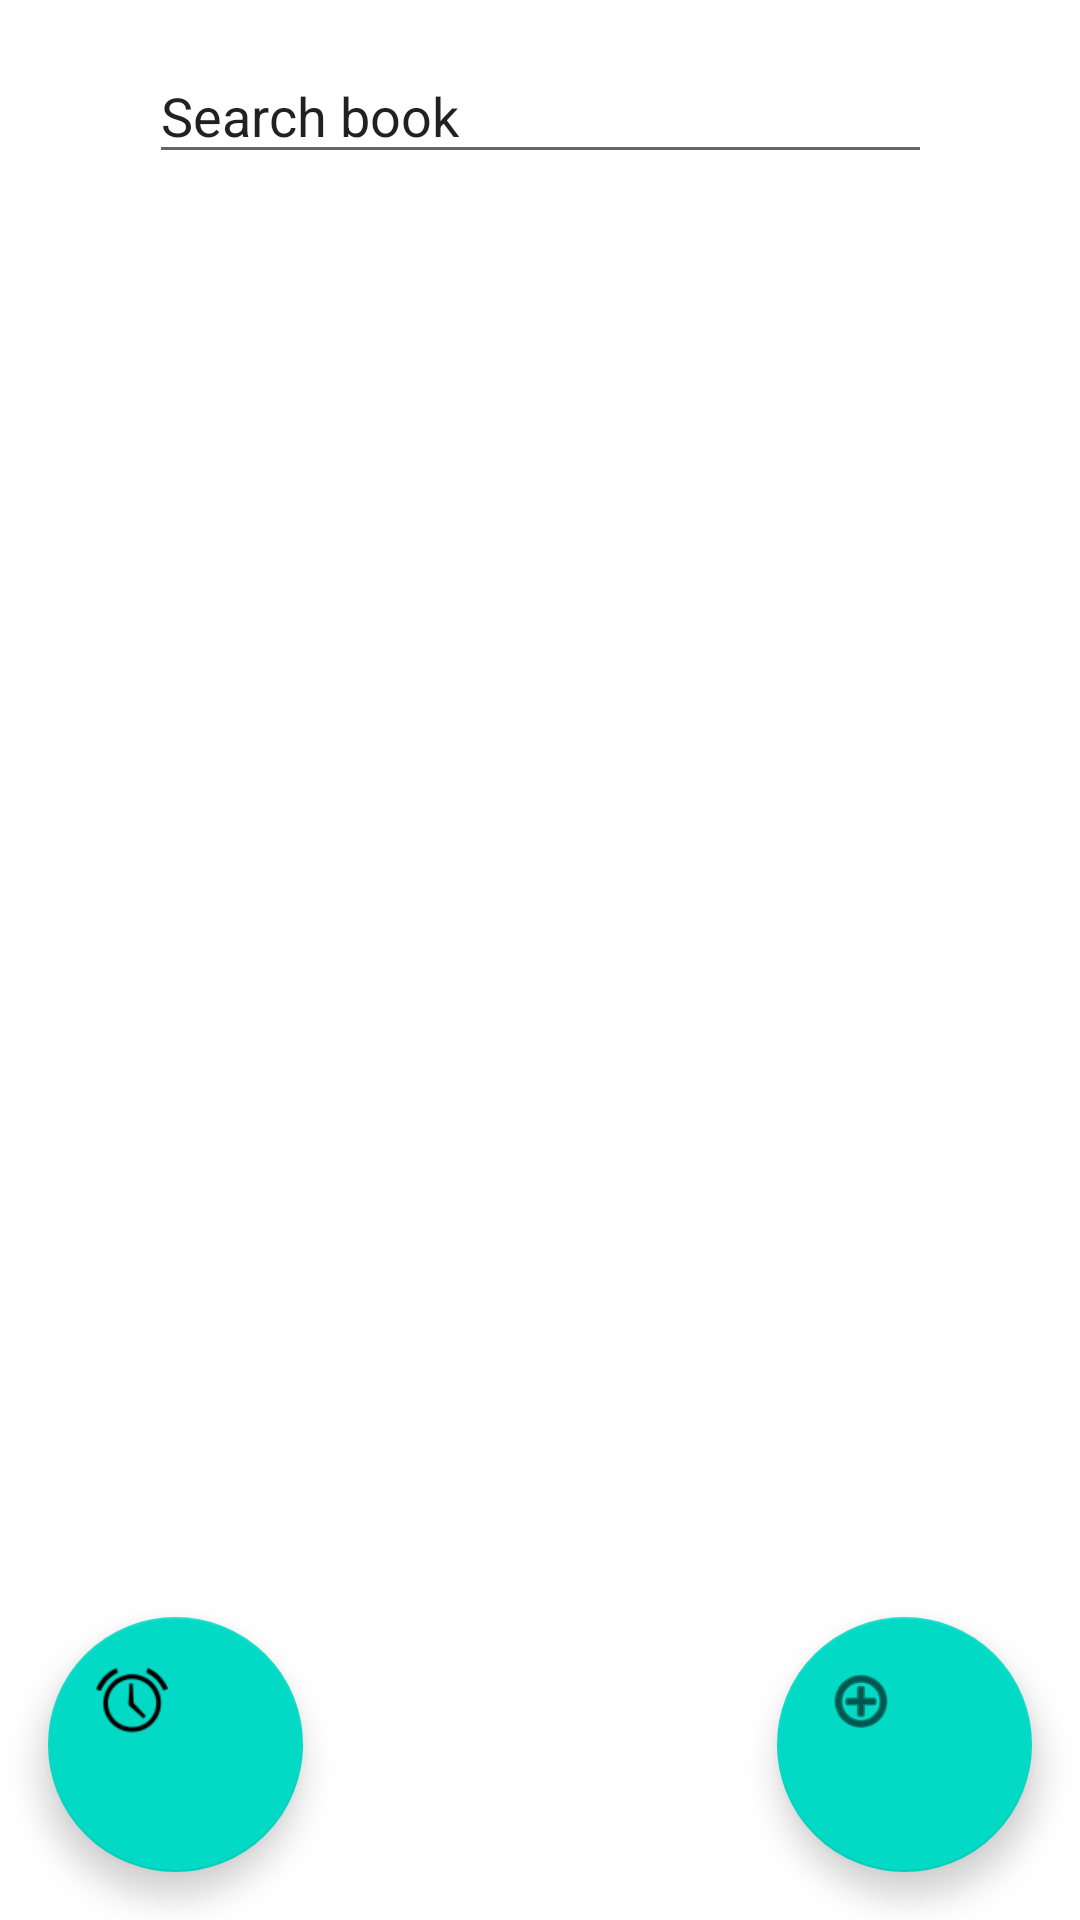

Named icons in this screenshot (1080px×1920px) and their centers, (x,y):
add: (904,1744)
lock idle alarm: (175,1744)
